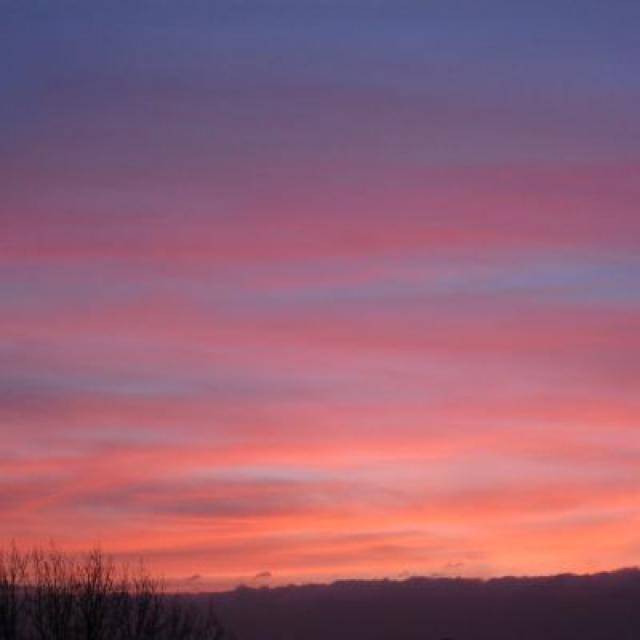Ct: (1, 75, 640, 541)
